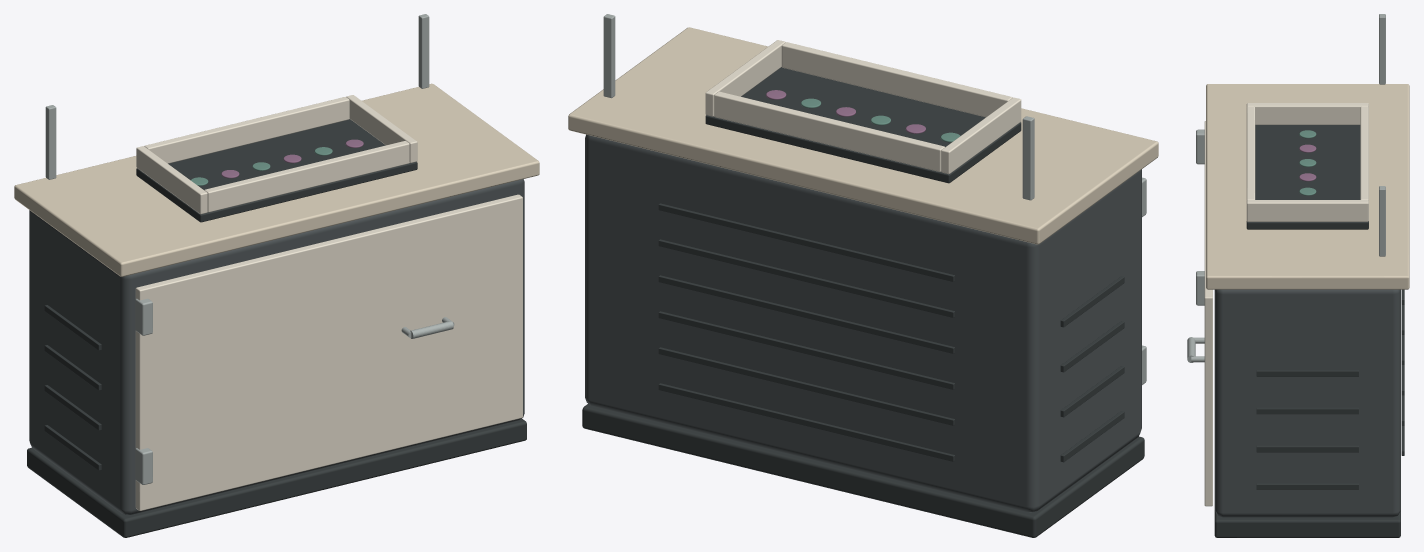
The model's file is museum-conservation-and-art-restoration-museum-conserv-73133a5f__31897.glb.
The picture shows the model from 3 angles, left to right: view 1: azimuth 30°, elevation 25°; view 2: azimuth 150°, elevation 25°; view 3: azimuth 270°, elevation 25°; orthographic projection. The views are drawn at different scales.
Parts seen in each view (by area): view 1: museum-conservation-and-art-restoration-retouching-palette-c (×5); view 2: museum-conservation-and-art-restoration-retouching-palette-c (×5); view 3: museum-conservation-and-art-restoration-retouching-palette-c (×6).
Boxes of the visible parts, x1,y1,x2,y2 form: museum-conservation-and-art-restoration-retouching-palette-c (×5): (14, 14, 539, 537); museum-conservation-and-art-restoration-retouching-palette-c (×5): (568, 14, 1158, 537); museum-conservation-and-art-restoration-retouching-palette-c (×6): (1187, 14, 1409, 537).
Bounding box in the file's own units: 1.35 × 1.12 × 0.6549.
